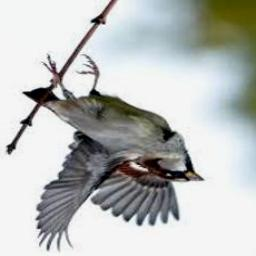Sparrow: (23, 55, 205, 253)
